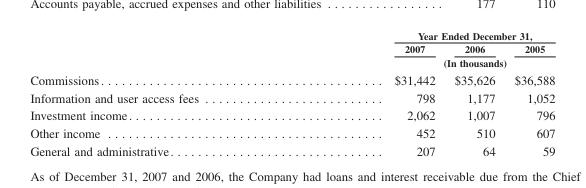table: (29, 29, 554, 157)
table column: (29, 29, 295, 157), (295, 29, 444, 157), (444, 29, 504, 157), (504, 29, 554, 157)
table column header: (29, 29, 554, 70)
table row: (29, 70, 554, 88), (29, 88, 554, 106), (29, 123, 554, 141), (29, 106, 554, 123), (29, 141, 554, 157), (29, 55, 554, 70), (29, 41, 554, 55), (29, 29, 554, 41)
table spanning cell: (295, 55, 554, 70), (295, 29, 554, 41)
